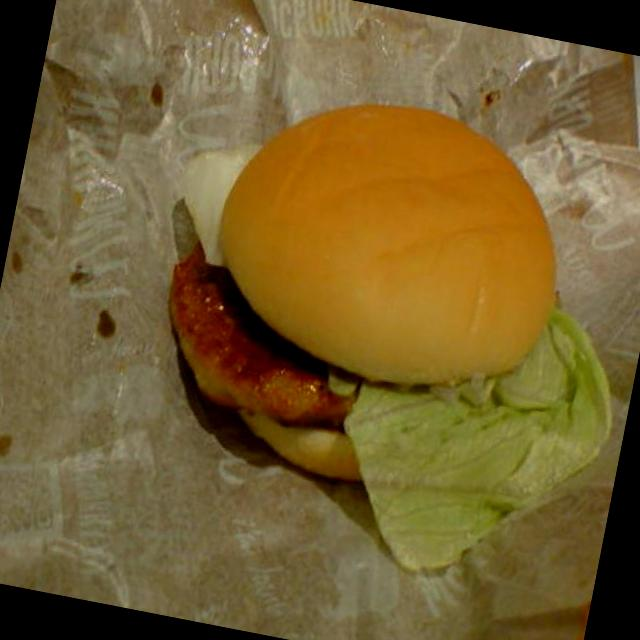Hamburger: (146, 71, 618, 536)
